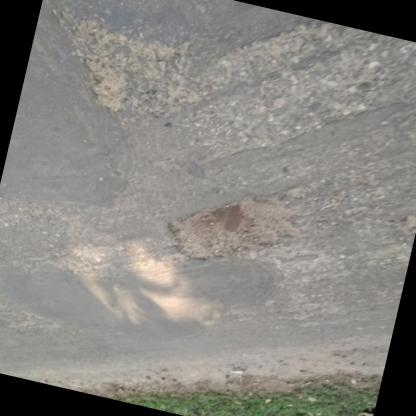pothole: (158, 172, 310, 284), (70, 53, 134, 118)
